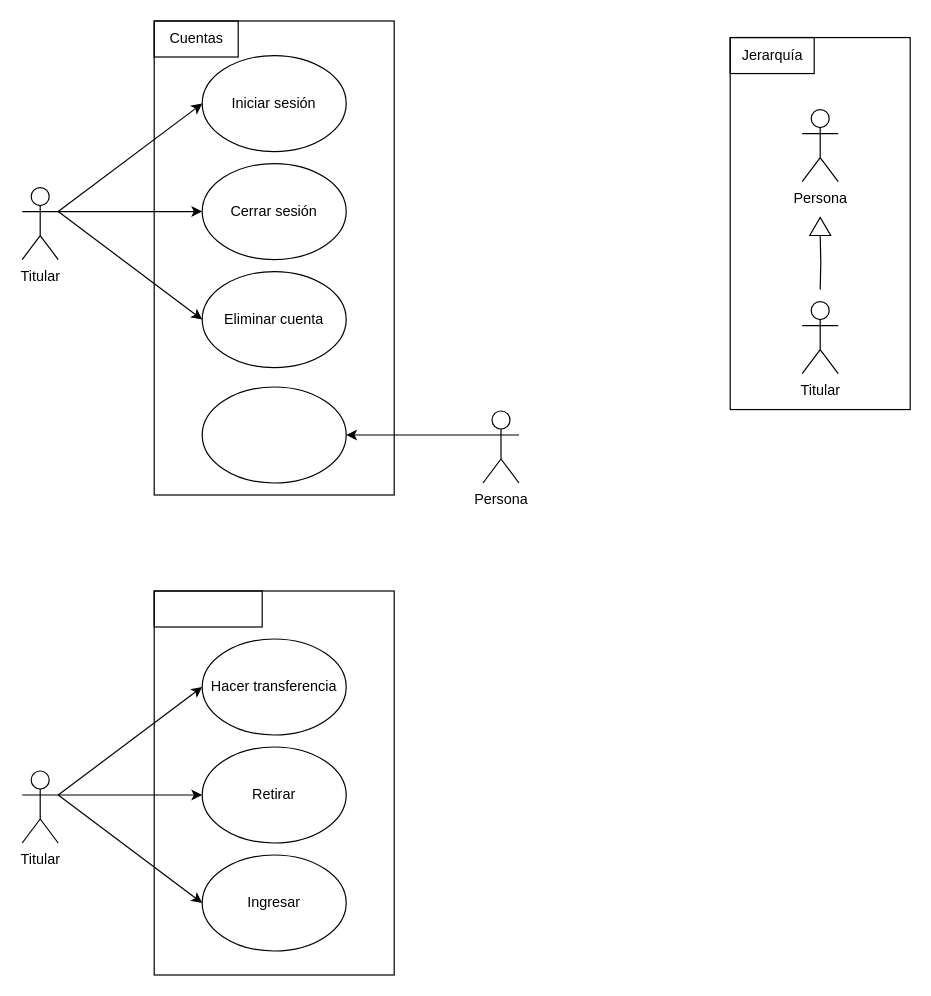
The diagram is 931 pixels wide and 996 high, and some of its shapes have lost their labels. The shapes that lost their labels are listed below. From the top down, each one's centre as x and y in pixels, then its label:
At point (273, 434): "Alta cuenta".
At point (207, 608): "Operaciones".
